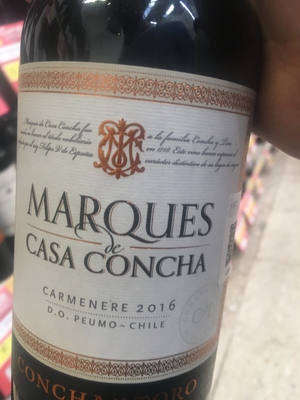marques de casa concha carmenere: (10, 6, 255, 400)
